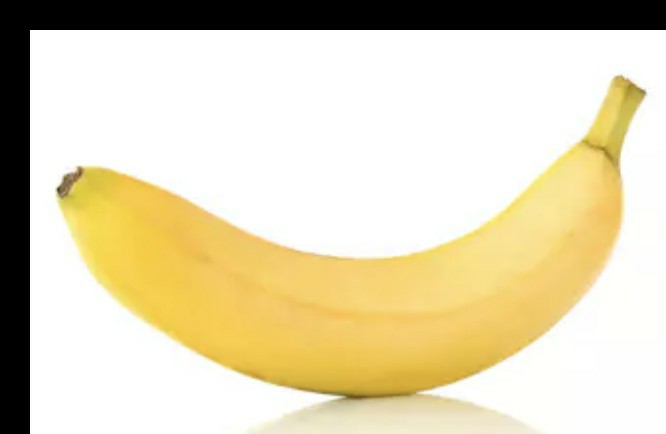fresh_banana: (61, 97, 647, 394)
